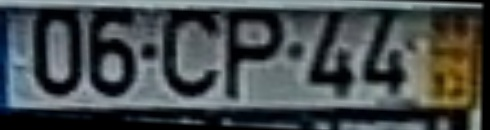0: (31, 8, 85, 99)
4: (306, 10, 360, 103), (362, 9, 414, 102)
6: (87, 9, 140, 100)
C: (161, 10, 225, 102)
P: (225, 9, 292, 105)
